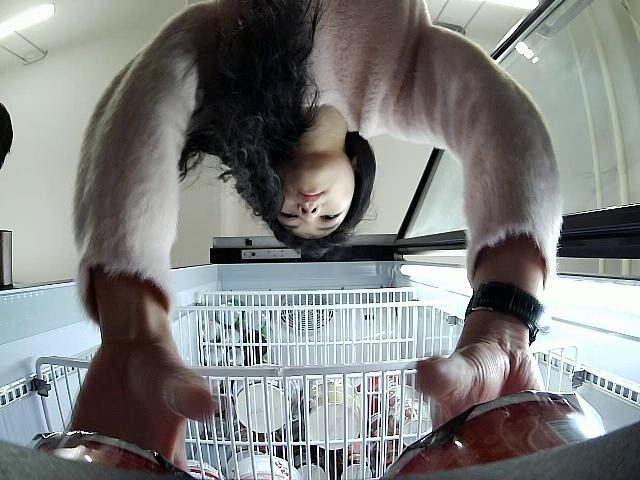01_ShinRamen_L: (357, 387, 612, 480), (30, 429, 206, 480)
